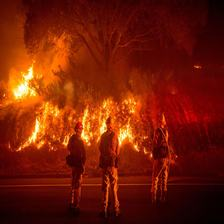fire: (10, 58, 157, 149)
